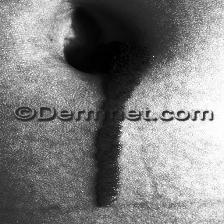Benign Marking or Mole: (92, 42, 153, 207), (94, 41, 133, 72)
